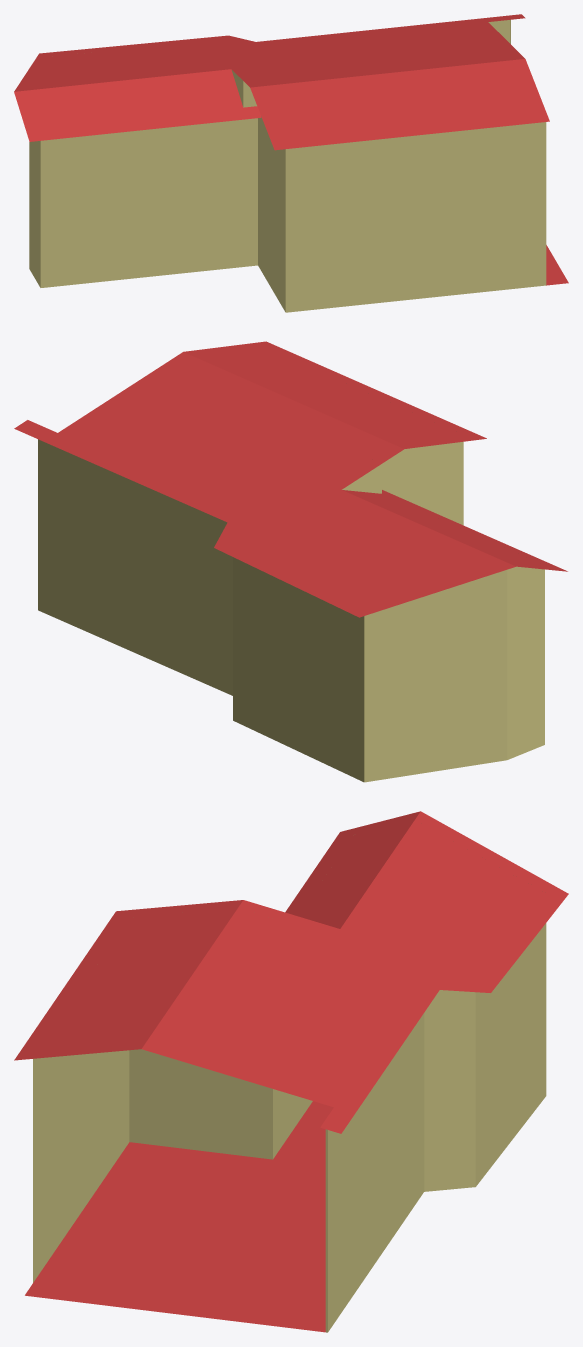
3 renders of one model, top to bottom at view 1: azimuth 30°, elevation 25°; view 2: azimuth 150°, elevation 25°; view 3: azimuth 270°, elevation 25°, orthographic. The views are drawn at different scales.
Size of the model in its own units: 18.77 by 14.13 by 6.95.
